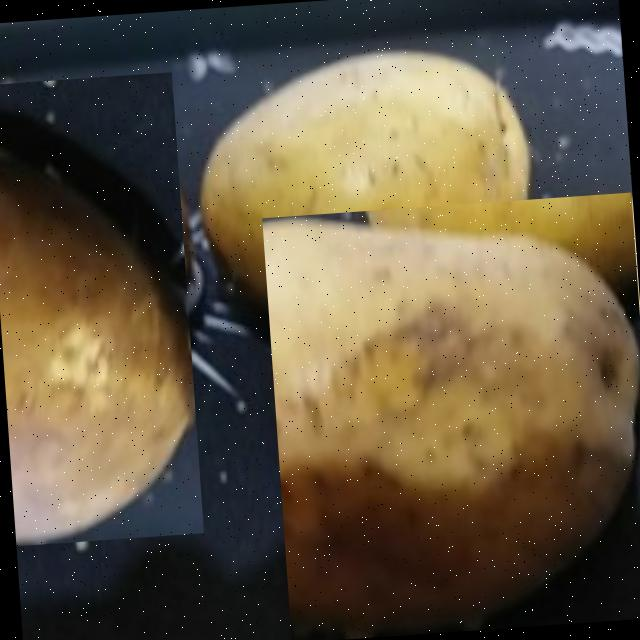Damaged potato: (260, 191, 640, 640), (0, 71, 202, 545)
Potato: (185, 34, 540, 318)
